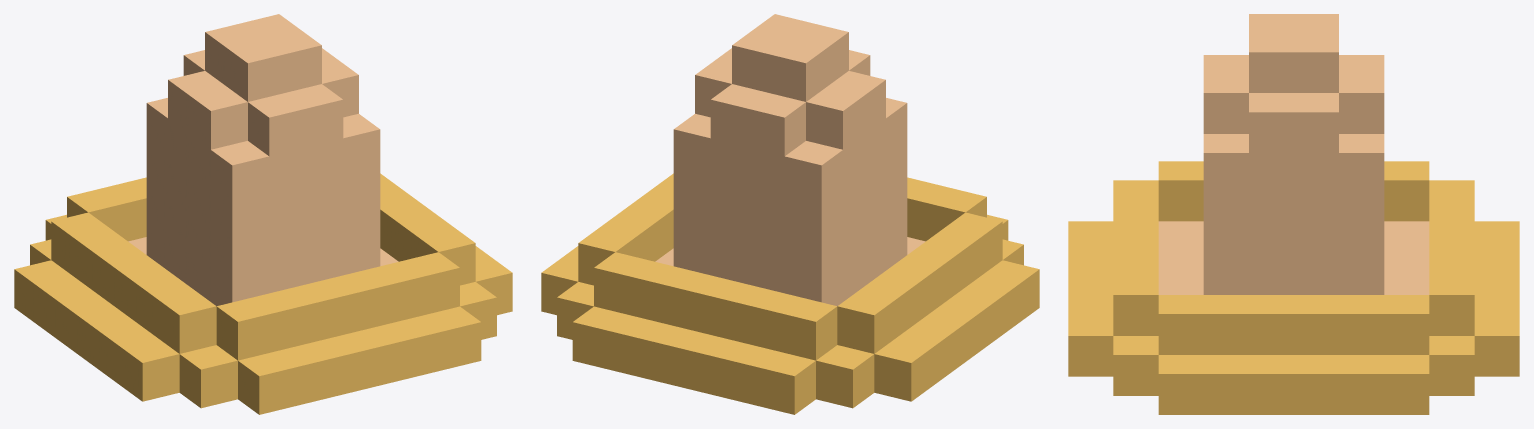
The model's file is condom.obj.
3 renders of one model, left to right at view 1: azimuth 30°, elevation 25°; view 2: azimuth 150°, elevation 25°; view 3: azimuth 270°, elevation 25°, orthographic. The views are drawn at different scales.
Bounding box in the file's own units: 10 × 7 × 10.
1 material, 1 textured.
